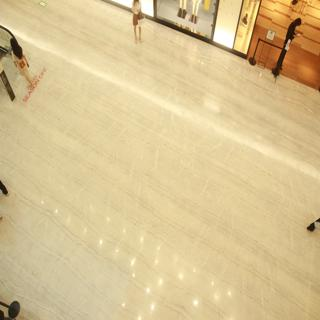person: (6, 34, 40, 96)
